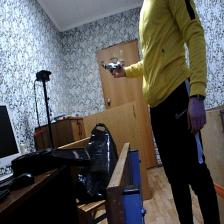drone: (99, 55, 125, 73)
